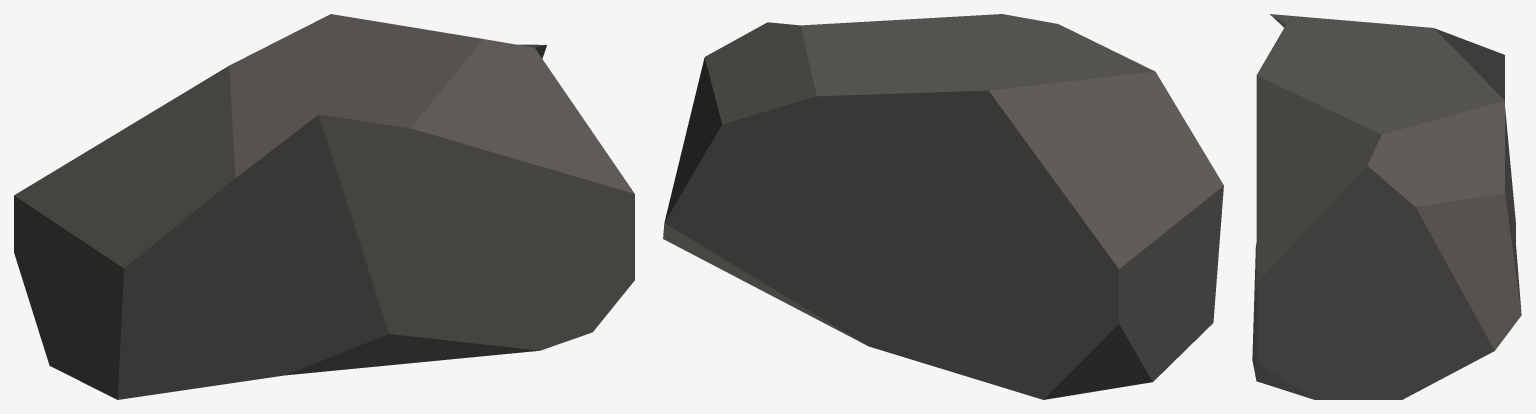
File: stone_dark_gray_2.fbx
The picture shows the model from 3 angles, left to right: view 1: azimuth 30°, elevation 25°; view 2: azimuth 150°, elevation 25°; view 3: azimuth 270°, elevation 25°; orthographic projection. The views are drawn at different scales.
Parts seen in each view (by area): view 1: Cube; view 2: Cube; view 3: Cube.
Boxes of the visible parts, bbox=[...] form: Cube: bbox=[14, 14, 634, 399]; Cube: bbox=[663, 14, 1223, 399]; Cube: bbox=[1252, 14, 1521, 399].
Size of the model in its own units: 159 by 87.49 by 84.72.
